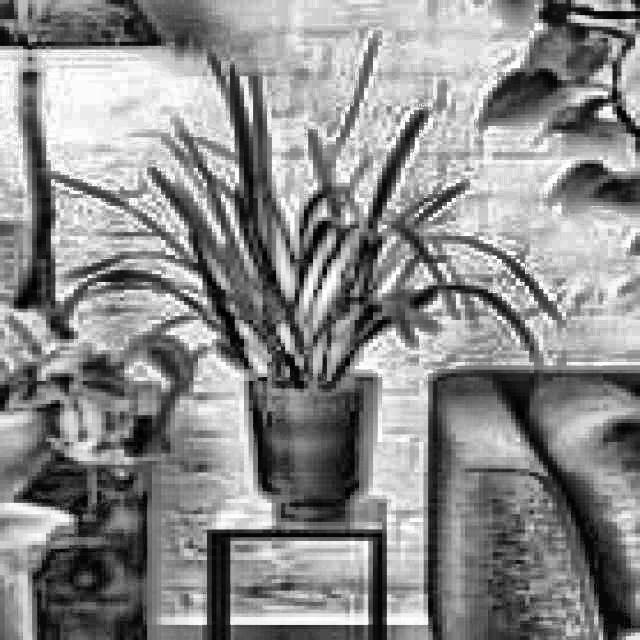plants: (179, 91, 432, 523)
